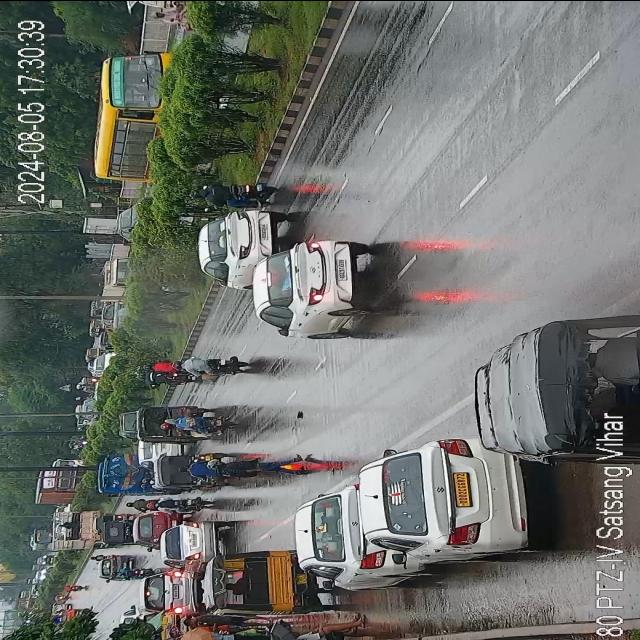2-wheelers: (189, 180, 280, 208), (173, 356, 250, 374), (160, 414, 233, 432), (151, 496, 211, 512), (148, 5, 189, 23), (142, 358, 184, 372), (138, 372, 183, 384), (178, 462, 214, 477), (124, 498, 154, 511), (112, 568, 151, 577), (60, 584, 86, 590), (90, 554, 108, 560), (54, 594, 70, 600)
auto: (475, 318, 640, 458), (206, 548, 304, 616), (138, 407, 204, 441), (158, 452, 219, 488), (100, 518, 137, 544)
bus: (92, 56, 178, 190), (32, 526, 54, 550)
car: (361, 441, 528, 562), (251, 232, 372, 342), (298, 488, 408, 588), (197, 207, 283, 290), (160, 511, 228, 567), (140, 570, 202, 614), (133, 514, 186, 546), (138, 442, 182, 464), (98, 556, 132, 580), (119, 409, 138, 439), (52, 602, 69, 612)
pedestrian: (268, 612, 370, 640), (208, 454, 304, 474), (178, 614, 268, 628), (192, 632, 261, 640)
truck: (92, 452, 160, 496), (50, 510, 104, 550), (36, 469, 82, 504), (98, 258, 130, 294)
